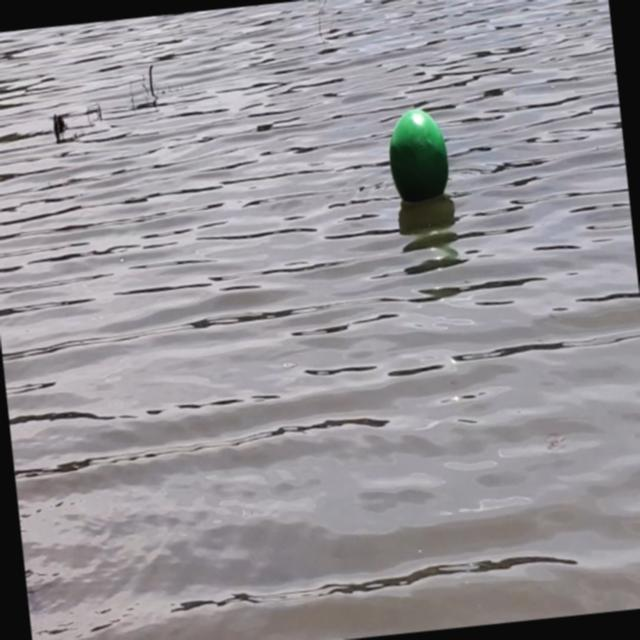buoy: (382, 100, 456, 212)
